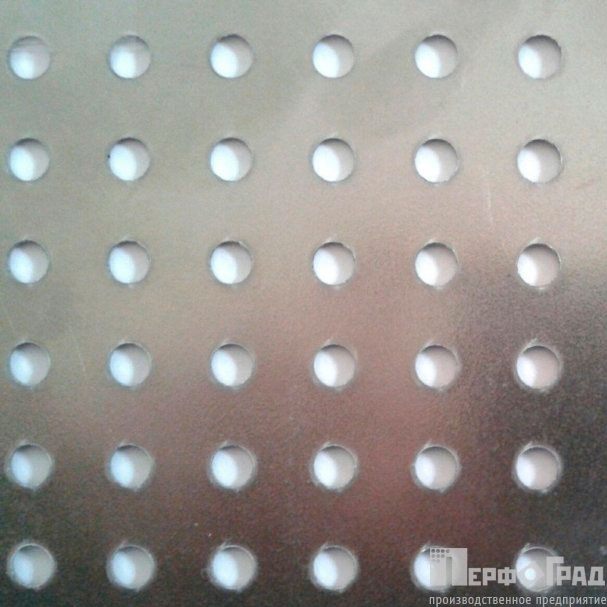Hole: (408, 26, 466, 86), (100, 539, 162, 594), (100, 29, 158, 85), (306, 130, 362, 187), (203, 234, 258, 292), (4, 30, 58, 89), (204, 339, 264, 392), (512, 29, 569, 84), (101, 132, 158, 187), (207, 539, 265, 593), (512, 132, 566, 189), (512, 337, 566, 394), (204, 29, 258, 85), (408, 134, 464, 188), (3, 439, 59, 493), (204, 132, 259, 186), (308, 438, 362, 493), (8, 539, 63, 593), (206, 437, 258, 494), (306, 28, 360, 82), (512, 236, 566, 290), (3, 335, 57, 389), (4, 130, 56, 185), (104, 438, 159, 490), (509, 441, 564, 492), (306, 541, 361, 592), (411, 339, 463, 392), (103, 235, 154, 289), (409, 237, 461, 289), (3, 235, 55, 286), (411, 440, 461, 493), (308, 237, 358, 289), (310, 339, 362, 389), (104, 339, 156, 387)
